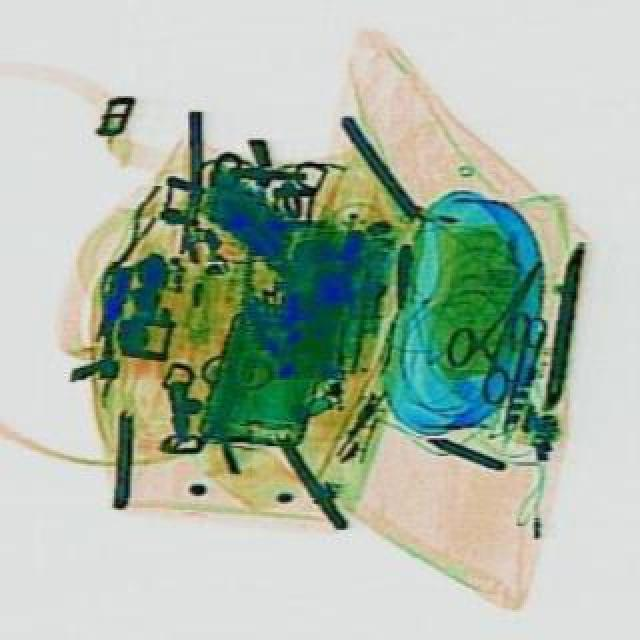pliers: (424, 244, 572, 404), (478, 306, 546, 442)
